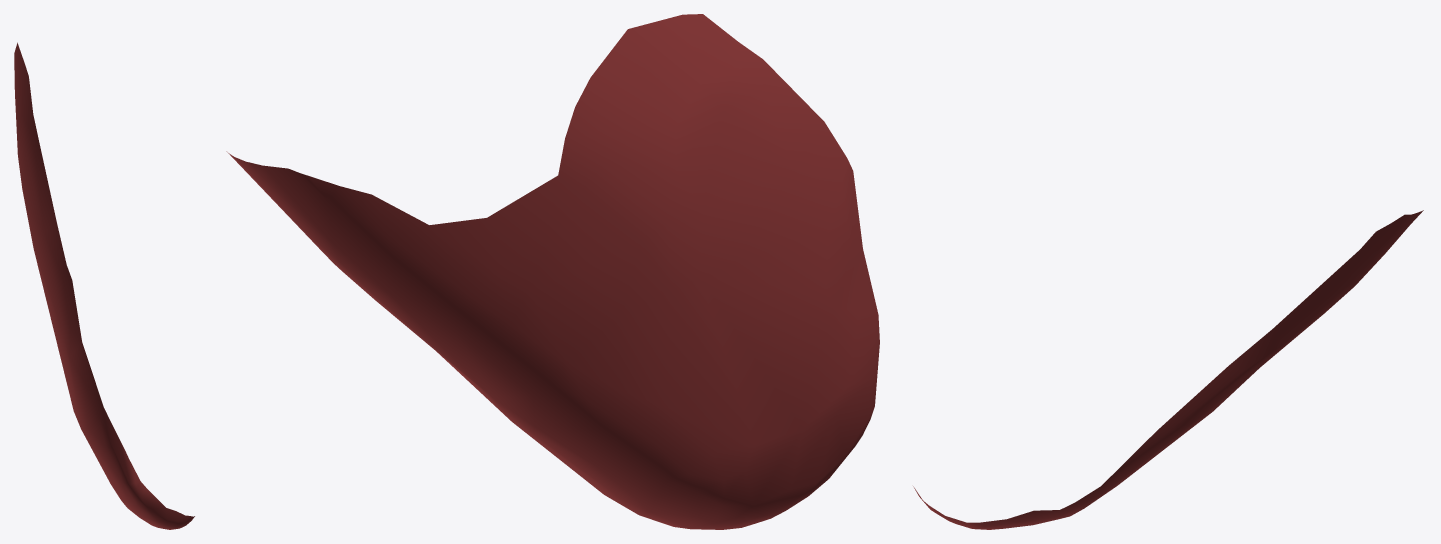
The model's file is internal-abdominal-oblique-muscle-or.glb.
The picture shows the model from 3 angles, left to right: view 1: azimuth 30°, elevation 25°; view 2: azimuth 150°, elevation 25°; view 3: azimuth 270°, elevation 25°; orthographic projection. The views are drawn at different scales.
Parts seen in each view (by area): view 1: Internal abdominal oblique muscle.or; view 2: Internal abdominal oblique muscle.or; view 3: Internal abdominal oblique muscle.or.
Boxes of the visible parts, <box> form: Internal abdominal oblique muscle.or: <box>14,42,194,529</box>; Internal abdominal oblique muscle.or: <box>226,14,879,529</box>; Internal abdominal oblique muscle.or: <box>913,210,1423,529</box>.
Size of the model in its own units: 0.0112 by 0.0182 by 0.0176.
